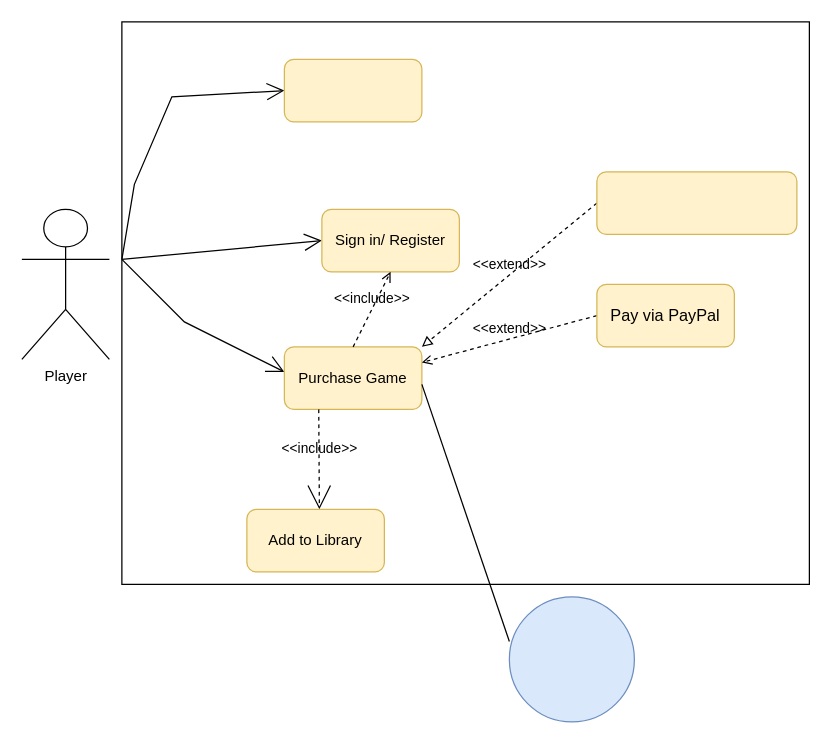
The diagram is 831 pixels wide and 744 high, and some of its shapes have lost their labels. The shapes that lost their labels are listed below. From the top down, each one's box as (x1, y1, x2, y2) in pixels, then its label:
(283, 58, 422, 122): Search Game
(596, 171, 797, 234): Pay via Credit Card
(508, 596, 634, 722): Payment Gateway
